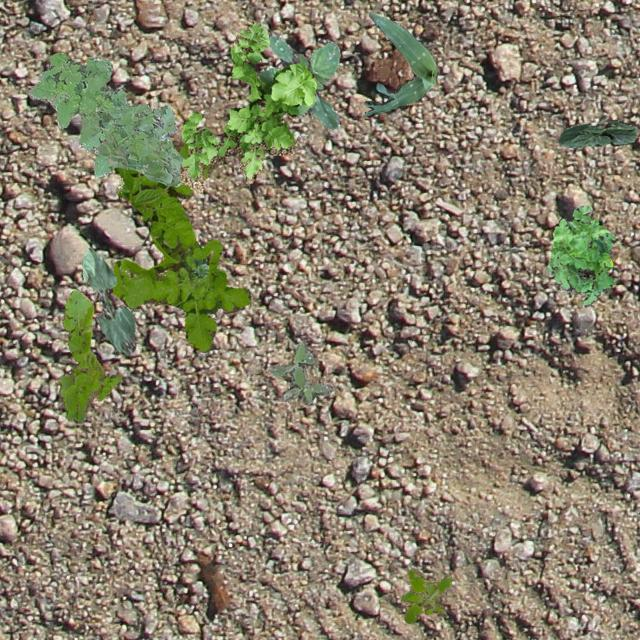crop: (363, 12, 438, 116), (82, 246, 134, 354), (556, 118, 636, 146), (176, 254, 208, 286)
weed: (112, 142, 250, 352), (180, 19, 316, 192), (28, 51, 184, 186), (58, 288, 120, 421), (256, 32, 340, 128), (546, 204, 614, 306), (268, 342, 332, 404), (398, 568, 452, 622)
